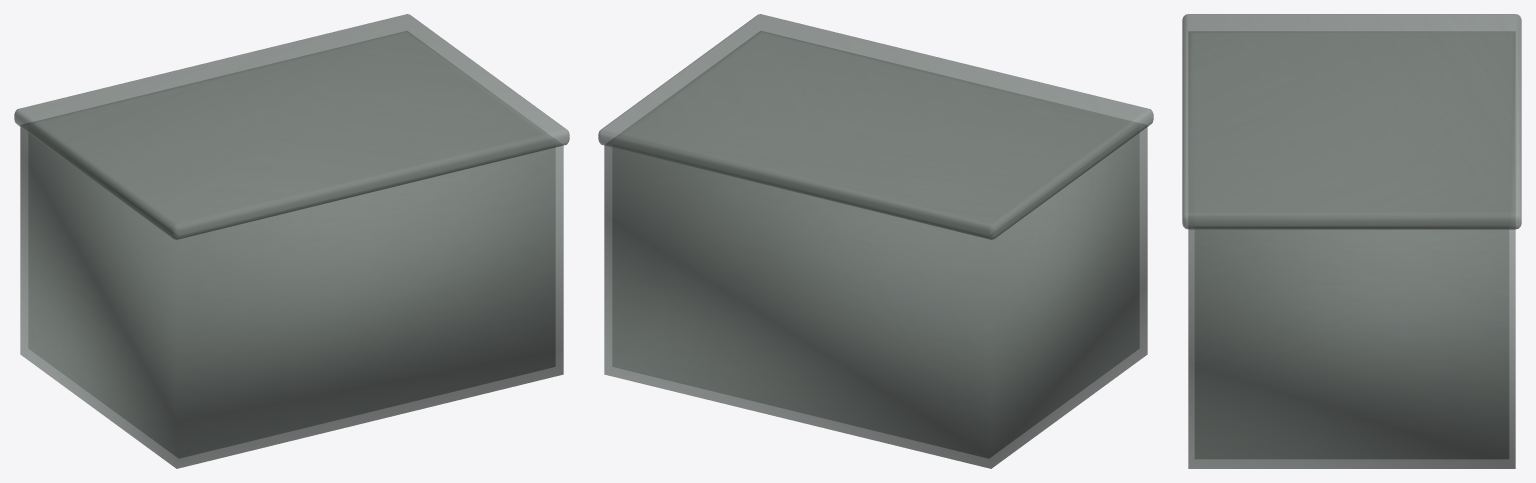
The model's file is intact.glb.
3 views of the same model, side by side, from view 1: azimuth 30°, elevation 25°; view 2: azimuth 150°, elevation 25°; view 3: azimuth 270°, elevation 25° (orthographic). The views are drawn at different scales.
Parts seen in each view (by area): view 1: storage-box-component-000-plastic, storage-box-component-001-plastic; view 2: storage-box-component-000-plastic, storage-box-component-001-plastic; view 3: storage-box-component-000-plastic, storage-box-component-001-plastic.
Boxes of the visible parts, x1=… form: storage-box-component-000-plastic: x1=20, y1=31, x2=563, y2=468; storage-box-component-001-plastic: x1=14, y1=14, x2=569, y2=239; storage-box-component-000-plastic: x1=604, y1=31, x2=1147, y2=468; storage-box-component-001-plastic: x1=598, y1=14, x2=1153, y2=239; storage-box-component-000-plastic: x1=1188, y1=32, x2=1515, y2=468; storage-box-component-001-plastic: x1=1182, y1=14, x2=1521, y2=229.
Size of the model in its own units: 0.3 by 0.1773 by 0.2123.
Materials: 1 (1 with a texture image).
